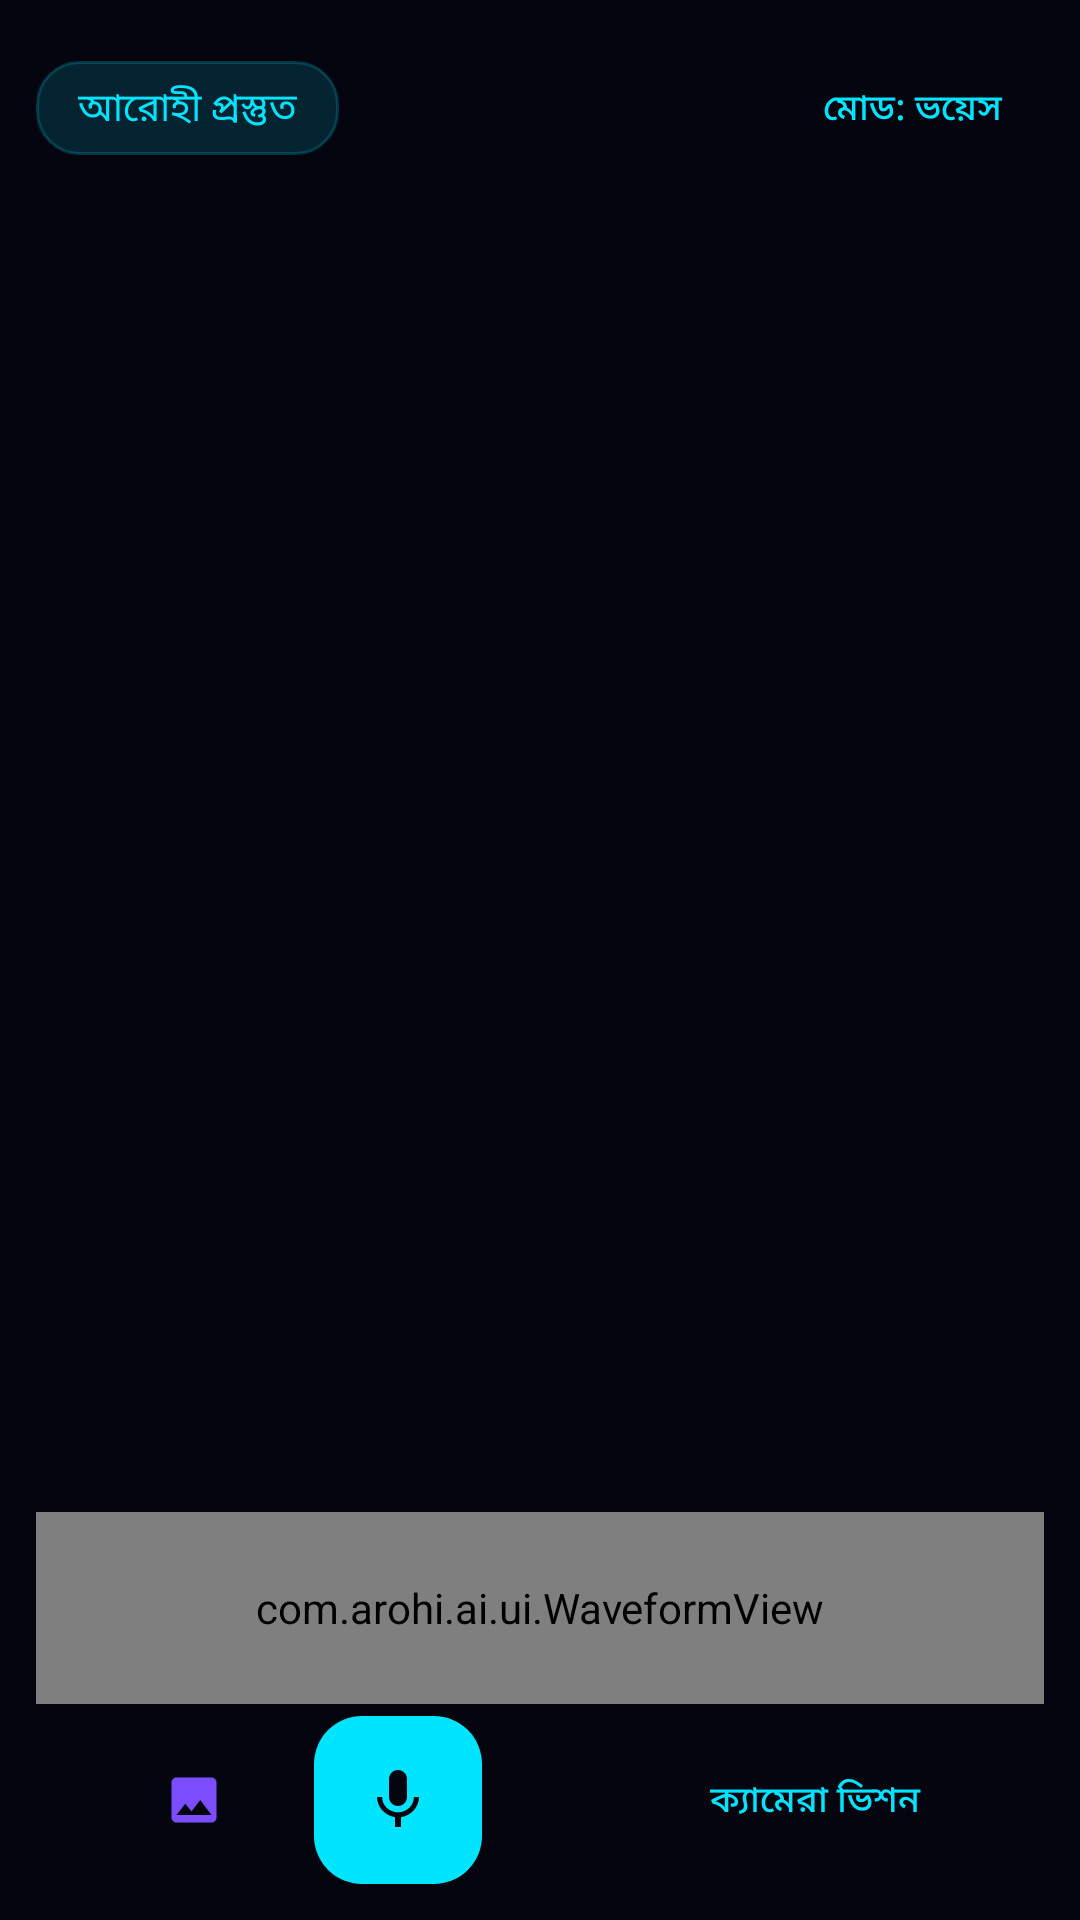

Named icons in this screenshot (1080 × 1920) and their bounding boxes, [x1=x1, y1=y1, x2=x2, y2=y2]:
মাইক: [x1=314, y1=1716, x2=482, y2=1884]
